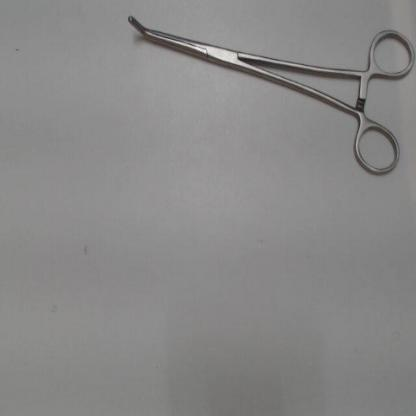Lahey Forceps: (116, 4, 414, 180)
